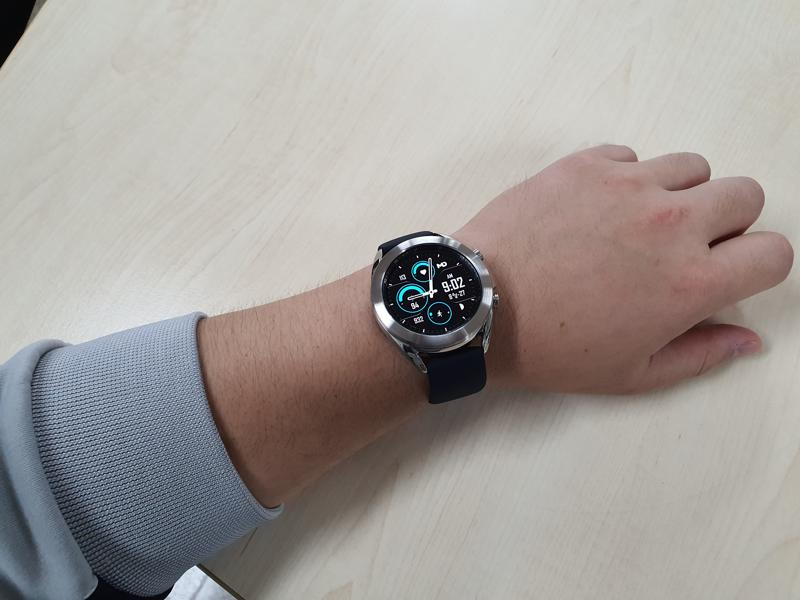watch: (369, 228, 502, 408)
